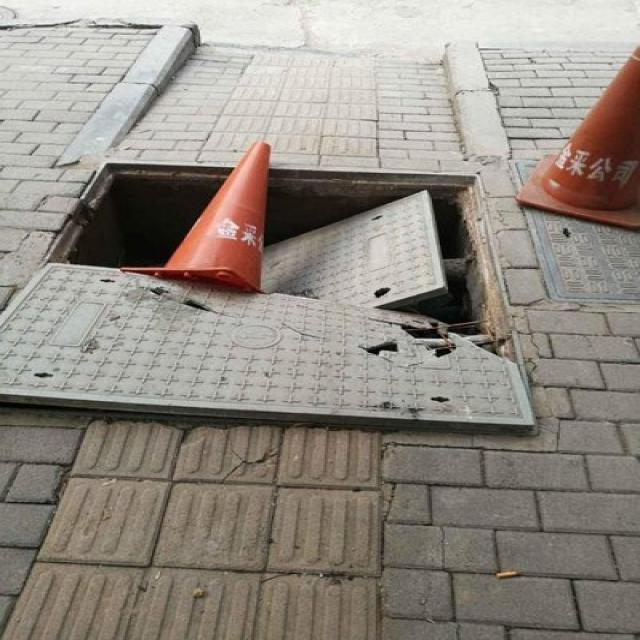manhole: (29, 147, 539, 431)
